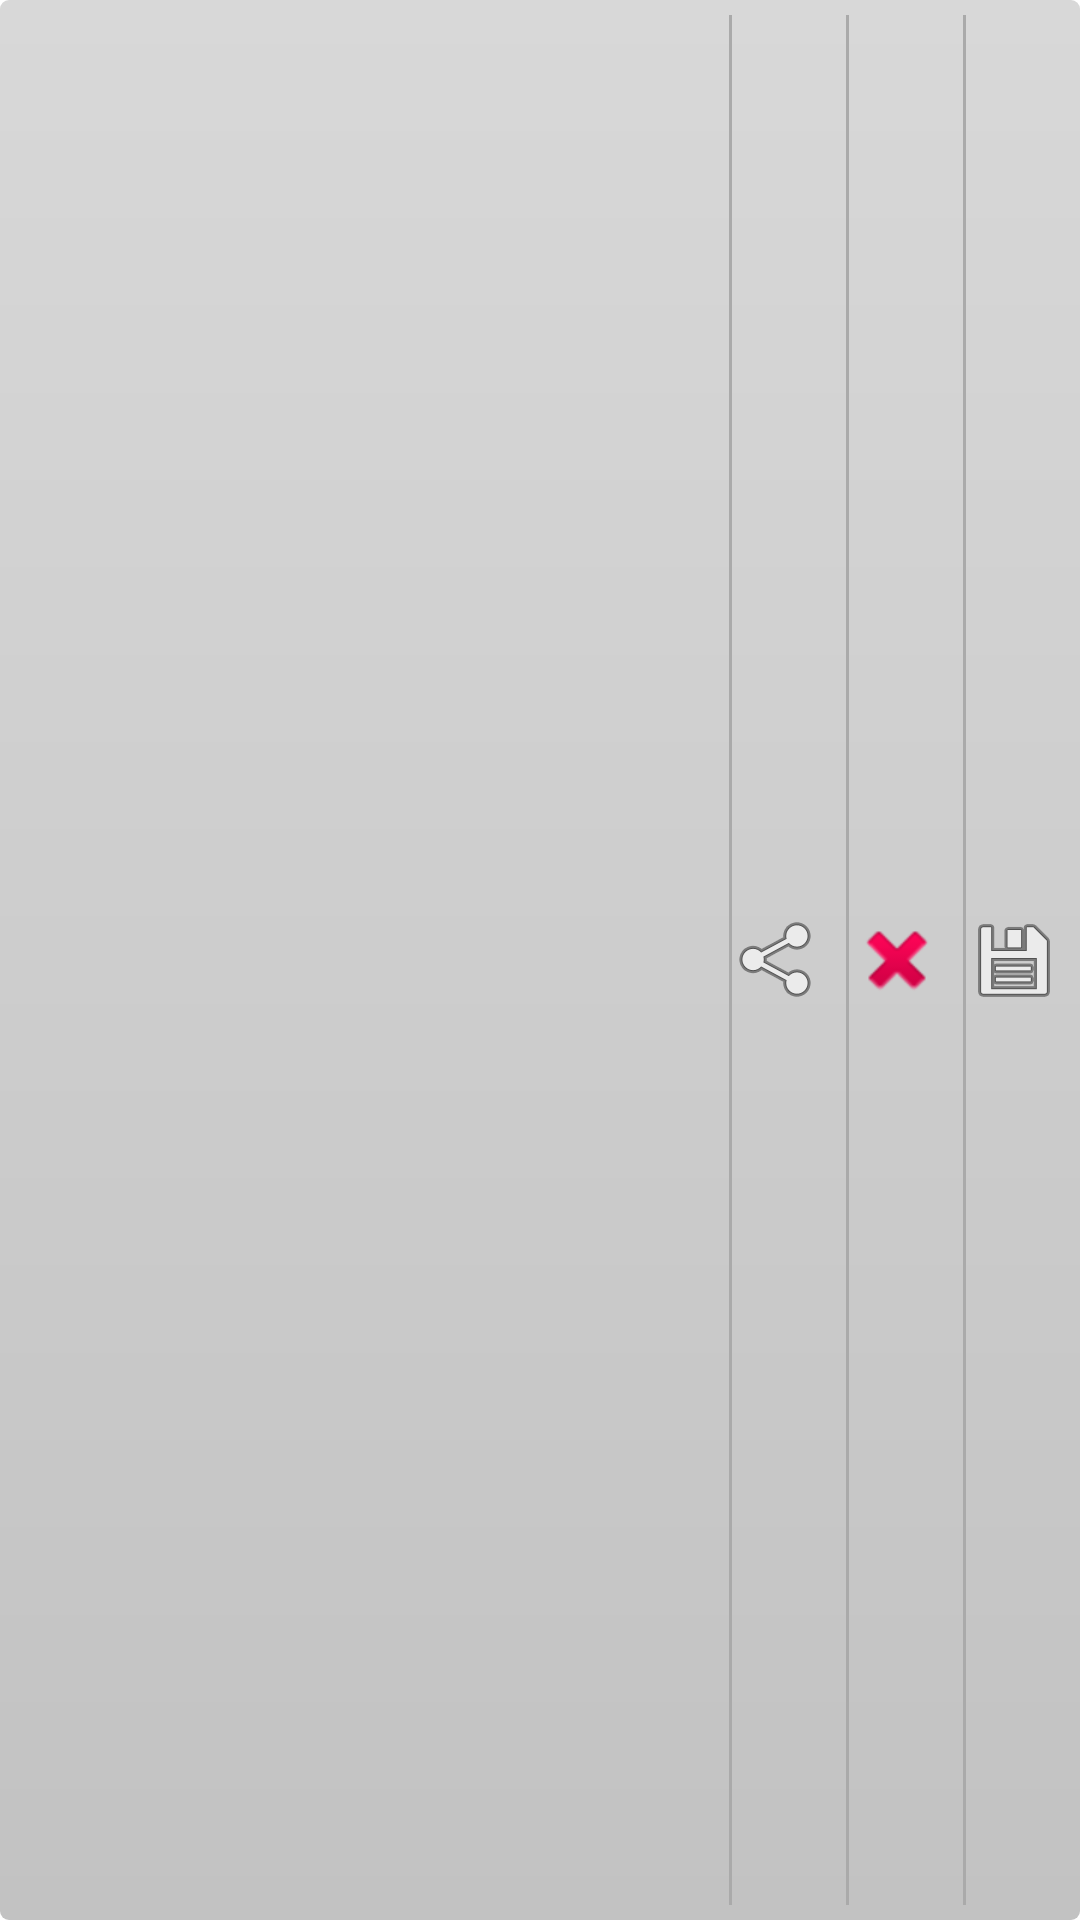

Icon click points for this 1080px×1920px phone screenshot, format (x=x, y=y):
delete: (x=897, y=960)
save: (x=1014, y=960)
share: (x=775, y=959)
